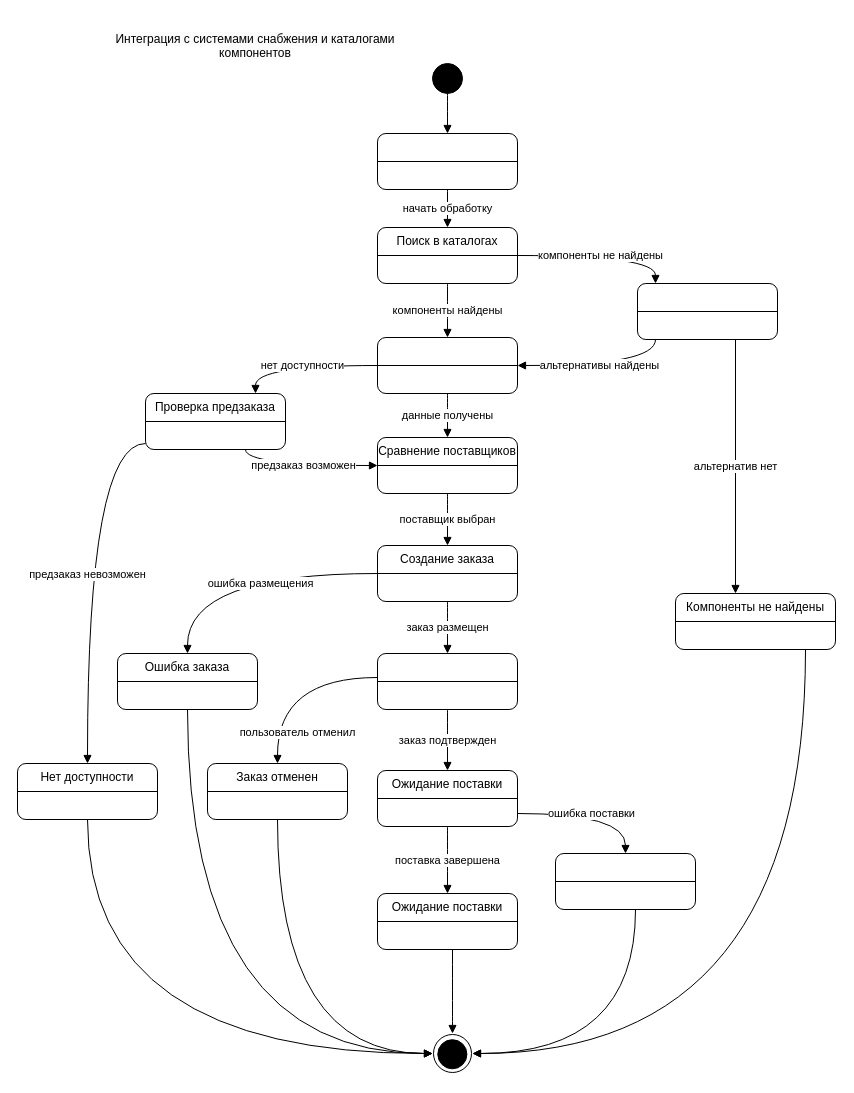
Image size: 854x1093. Some labels were removed from this diagram. The centre of each missing label's shape, as x and y in pixels:
Запрос создан: point 447,161
Ошибка доставки: point 625,881
Подтверждение заказа: point 447,681
Поиск альтернатив: point 707,311
Проверка наличия: point 447,365
